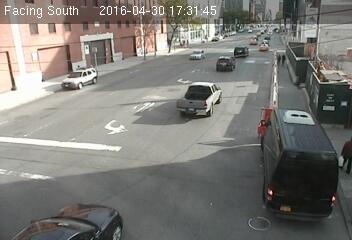neg: (64, 173, 79, 193), (154, 127, 166, 144), (67, 86, 77, 100), (98, 140, 105, 150), (70, 77, 73, 81)
pos: (333, 133, 351, 172), (278, 51, 290, 67), (274, 52, 283, 64)
